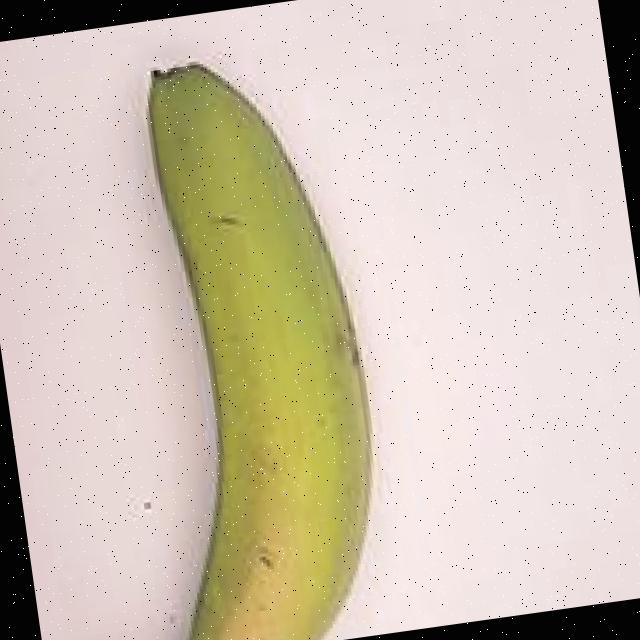Unripe: (0, 10, 424, 640)
